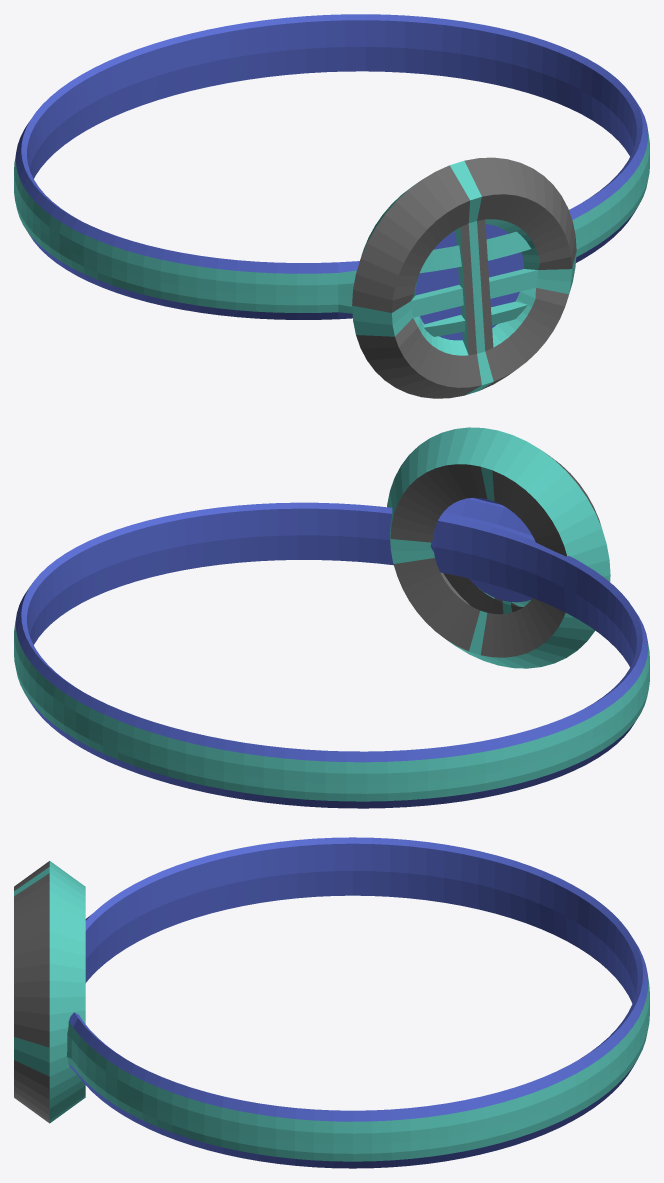
The model's file is belt.fbx.
The picture shows the model from 3 angles, top to bottom: view 1: azimuth 30°, elevation 25°; view 2: azimuth 150°, elevation 25°; view 3: azimuth 270°, elevation 25°; orthographic projection.
Parts seen in each view (by area): view 1: Torus, Torus.001; view 2: Torus, Torus.001; view 3: Torus, Torus.001.
Part boxes in pixels (box(x1,y1,x2,y2)): Torus: box(14, 14, 649, 336); Torus.001: box(352, 157, 576, 398); Torus: box(14, 498, 649, 808); Torus.001: box(387, 427, 610, 668); Torus: box(67, 837, 649, 1168); Torus.001: box(14, 861, 85, 1123).
Bounding box in the file's own units: 37.51 × 14.92 × 36.05.
